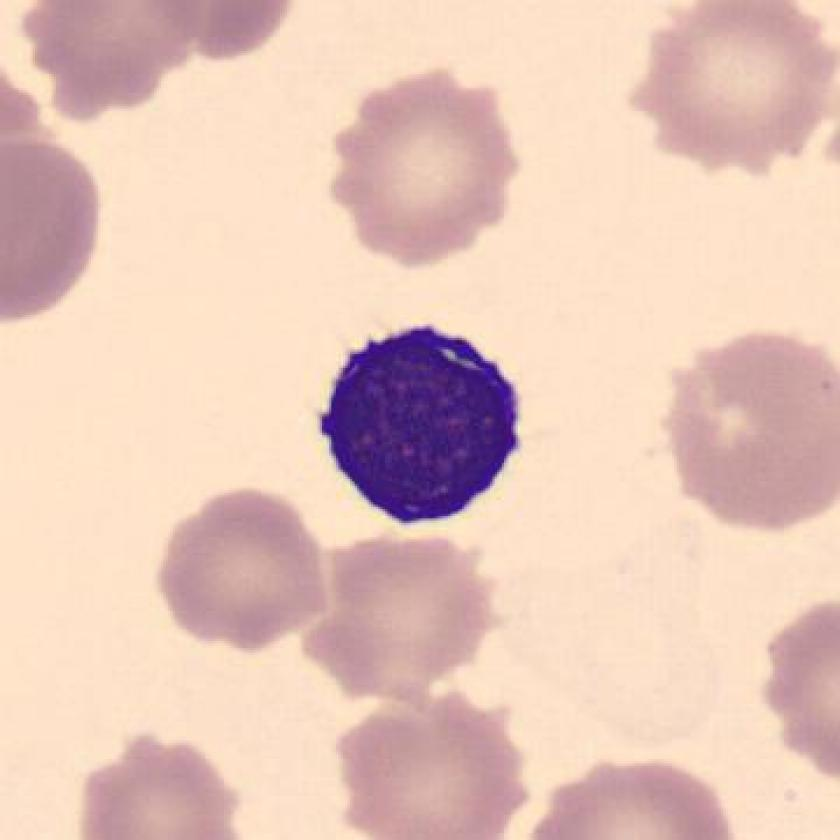lymphocyte: (305, 307, 543, 543)
